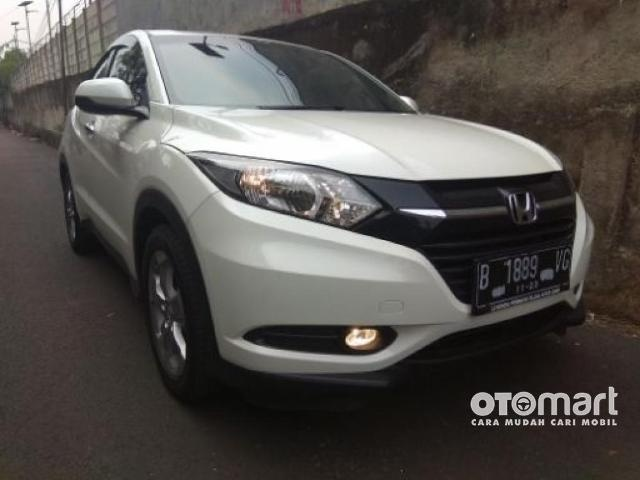plate: (476, 242, 570, 313)
